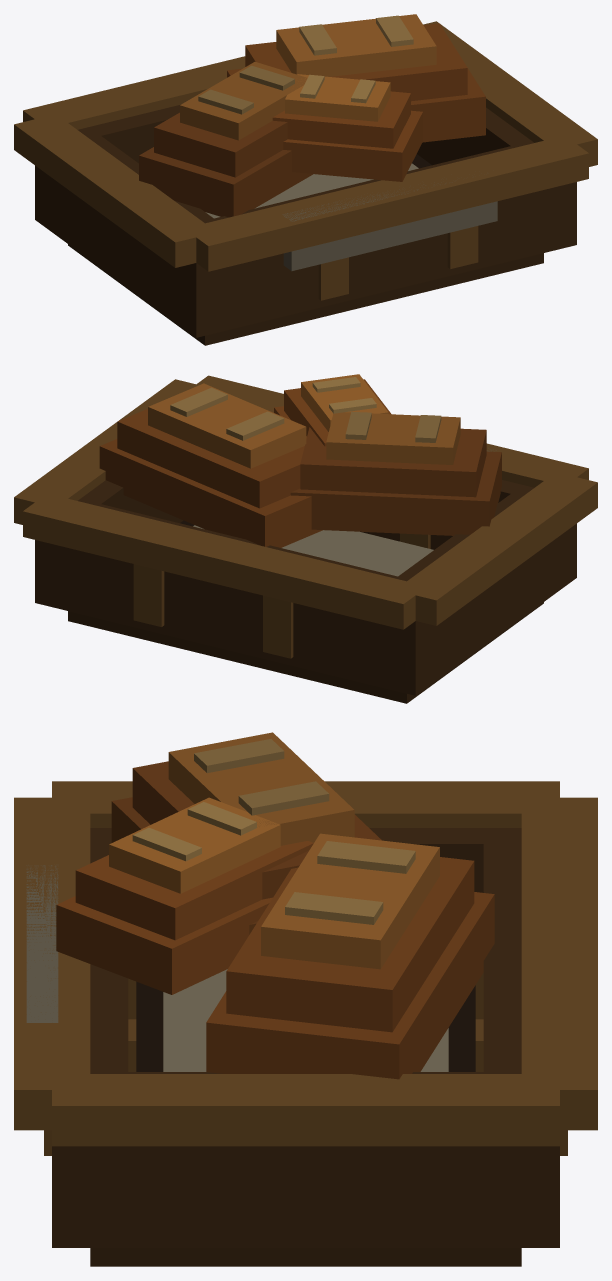
The model's file is BreadBasket.glb.
3 renders of one model, top to bottom at view 1: azimuth 30°, elevation 25°; view 2: azimuth 150°, elevation 25°; view 3: azimuth 270°, elevation 25°, orthographic. The views are drawn at different scales.
Visible parts, largest first — view 1: BreadBasket; view 2: BreadBasket; view 3: BreadBasket.
Part boxes in pixels (bbox=[...]): BreadBasket: bbox=[14, 14, 597, 345]; BreadBasket: bbox=[14, 374, 597, 703]; BreadBasket: bbox=[14, 732, 597, 1266].
Bounding box in the file's own units: 0.484 × 0.2135 × 0.368.
